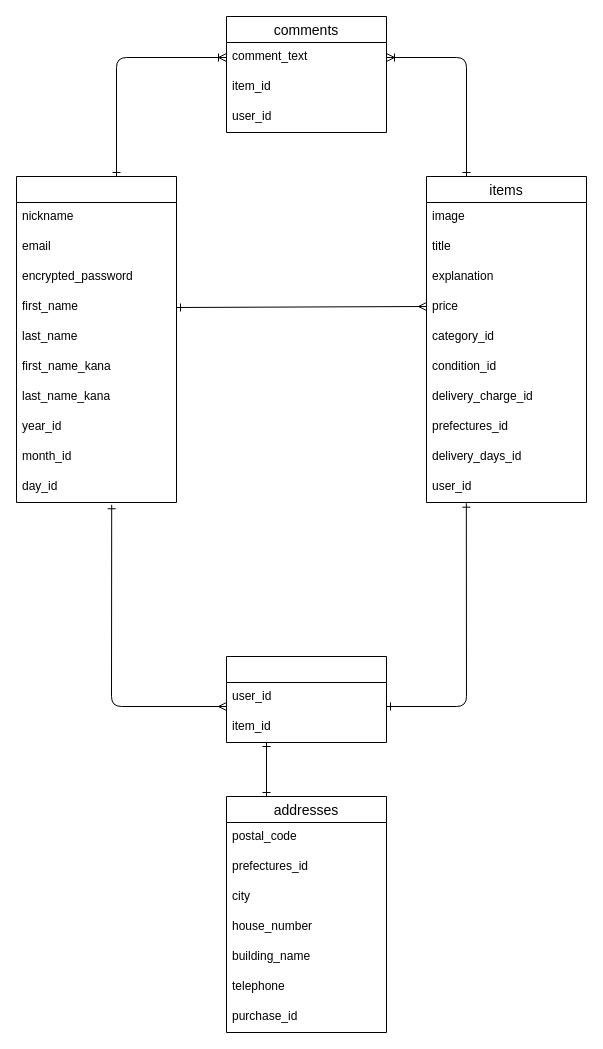
Some shapes in this 603 by 1049 pixel diagram are drawn without their labels. The shapes that lost their labels are listed below. From the top down, each one's box as (x1, y1, x2, y2) in pixels, then its label:
(16, 176, 176, 502): users
(226, 656, 386, 742): purchases
